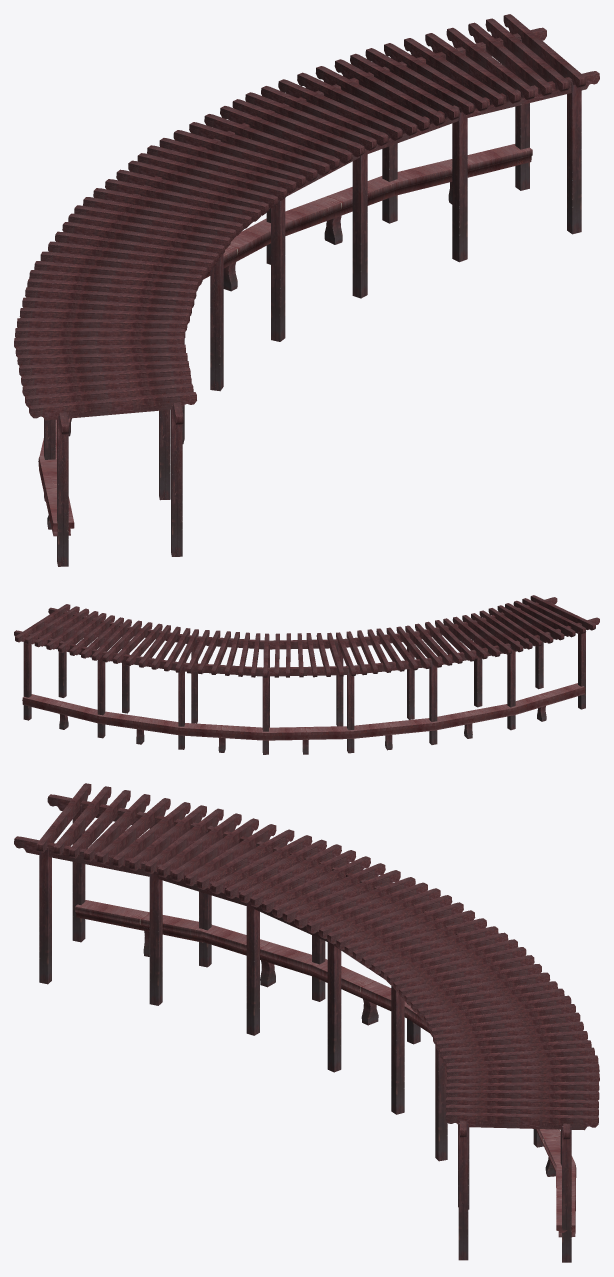
Rendered from Building_ShedWood_01.FBX.
The picture shows the model from 3 angles, top to bottom: view 1: azimuth 30°, elevation 25°; view 2: azimuth 150°, elevation 25°; view 3: azimuth 270°, elevation 25°; orthographic projection. The views are drawn at different scales.
Visible parts, largest first — view 1: Building_ShedWood_01; view 2: Building_ShedWood_01; view 3: Building_ShedWood_01.
Boxes of the visible parts, left/top/right/bottom form: Building_ShedWood_01: left=14, top=14, right=599, bottom=566; Building_ShedWood_01: left=14, top=595, right=599, bottom=754; Building_ShedWood_01: left=14, top=783, right=599, bottom=1262.
Size of the model in its own units: 1633 by 1176 by 320.
